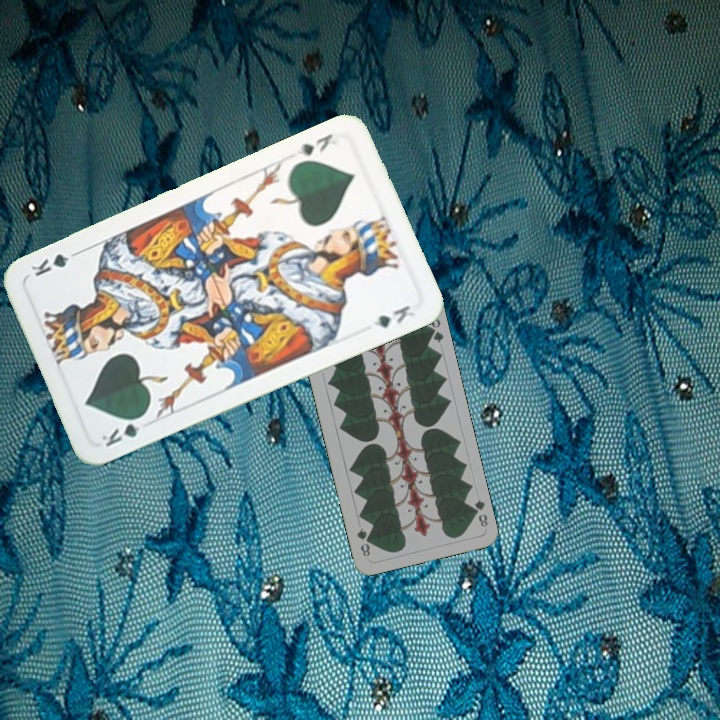G8: (467, 494, 491, 530)
GK: (97, 410, 149, 450), (292, 129, 335, 159)
